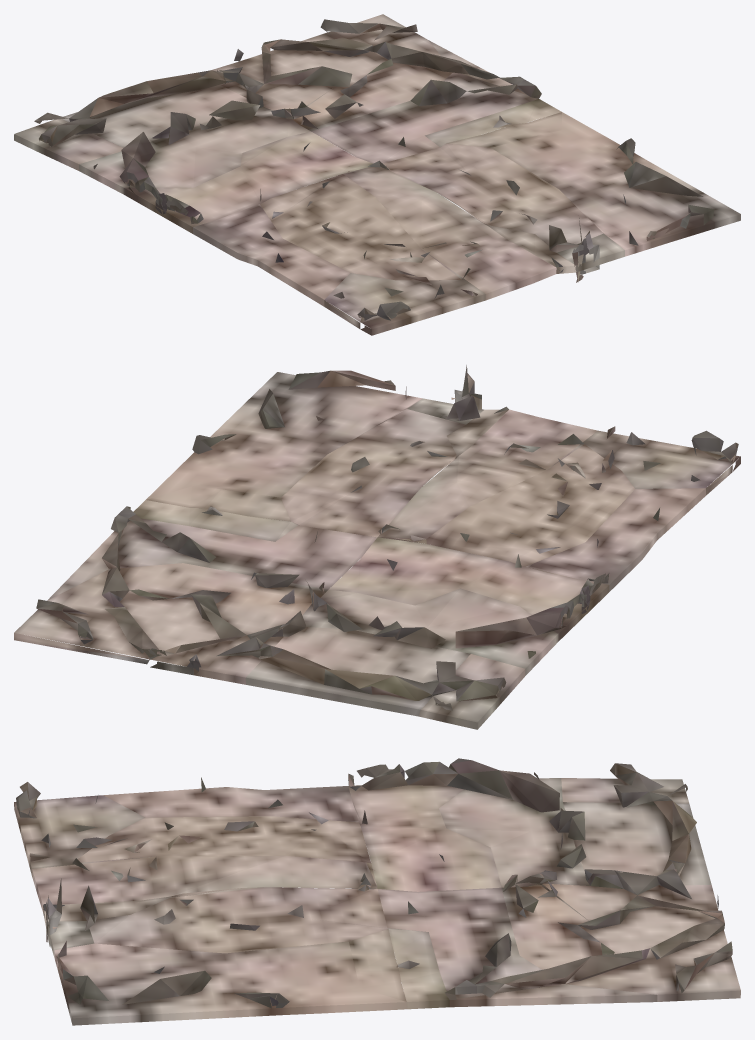
3 renders of one model, top to bottom at view 1: azimuth 30°, elevation 25°; view 2: azimuth 150°, elevation 25°; view 3: azimuth 270°, elevation 25°, orthographic. The views are drawn at different scales.
Parts seen in each view (by area): view 1: Mesh_0; view 2: Mesh_0; view 3: Mesh_0.
Part boxes in pixels (<box>): Mesh_0: <box>14,14,740,335</box>; Mesh_0: <box>14,365,740,729</box>; Mesh_0: <box>14,758,740,1025</box>.
Size of the model in its own units: 533 by 69.29 by 659.
Materials: 1 (1 with a texture image).
